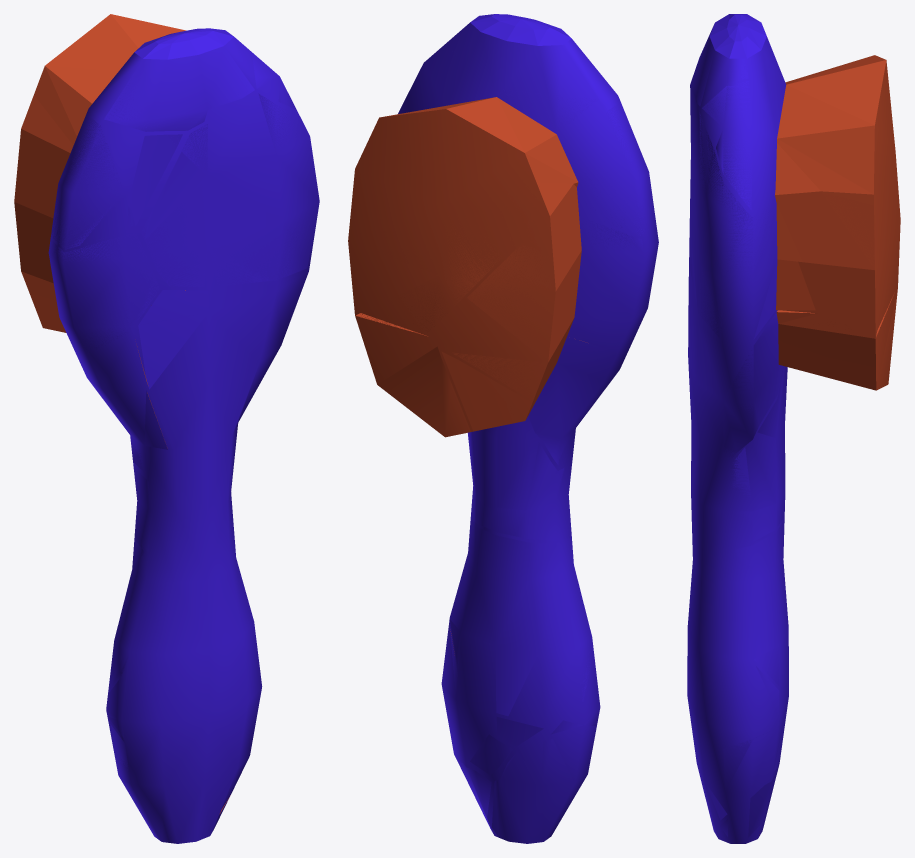
The model's file is P_BrosseACheuveux_Colored_Breakable.fbx.
3 renders of one model, left to right at view 1: azimuth 30°, elevation 25°; view 2: azimuth 150°, elevation 25°; view 3: azimuth 270°, elevation 25°, orthographic.
Parts seen in each view (by area): view 1: P_BrosseACheveux_Colored_Breakable, P_BrosseACheveux_Colored_Breakable_cell.010, P_BrosseACheveux_Colored_Breakable_cell.005, P_BrosseACheveux_Colored_Breakable_cell.001, P_BrosseACheveux_Colored_Breakable_cell.004, P_BrosseACheveux_Colored_Breakable_cell.014, P_BrosseACheveux_Colored_Breakable_cell.007, P_BrosseACheveux_Colored_Breakable_cell.006, P_BrosseACheveux_Colored_Breakable_cell, P_BrosseACheveux_Colored_Breakable_cell.011; view 2: P_BrosseACheveux_Colored_Breakable, P_BrosseACheveux_Colored_Breakable_cell.004, P_BrosseACheveux_Colored_Breakable_cell.013, P_BrosseACheveux_Colored_Breakable_cell.006, P_BrosseACheveux_Colored_Breakable_cell.001, P_BrosseACheveux_Colored_Breakable_cell, P_BrosseACheveux_Colored_Breakable_cell.012, P_BrosseACheveux_Colored_Breakable_cell.014, P_BrosseACheveux_Colored_Breakable_cell.009, P_BrosseACheveux_Colored_Breakable_cell.002, P_BrosseACheveux_Colored_Breakable_cell.003; view 3: P_BrosseACheveux_Colored_Breakable, P_BrosseACheveux_Colored_Breakable_cell.001, P_BrosseACheveux_Colored_Breakable_cell.010, P_BrosseACheveux_Colored_Breakable_cell.007, P_BrosseACheveux_Colored_Breakable_cell.006, P_BrosseACheveux_Colored_Breakable_cell.013, P_BrosseACheveux_Colored_Breakable_cell.011, P_BrosseACheveux_Colored_Breakable_cell.005, P_BrosseACheveux_Colored_Breakable_cell.015, P_BrosseACheveux_Colored_Breakable_cell.002, P_BrosseACheveux_Colored_Breakable_cell.003.
Boxes of the visible parts, x1,y1,x2,y2 form: P_BrosseACheveux_Colored_Breakable: [14, 16, 319, 843]; P_BrosseACheveux_Colored_Breakable_cell.010: [141, 93, 319, 287]; P_BrosseACheveux_Colored_Breakable_cell.005: [104, 30, 254, 131]; P_BrosseACheveux_Colored_Breakable_cell.001: [34, 14, 182, 225]; P_BrosseACheveux_Colored_Breakable_cell.004: [14, 169, 159, 353]; P_BrosseACheveux_Colored_Breakable_cell.014: [18, 99, 133, 249]; P_BrosseACheveux_Colored_Breakable_cell.007: [137, 290, 208, 389]; P_BrosseACheveux_Colored_Breakable_cell.006: [134, 468, 151, 552]; P_BrosseACheveux_Colored_Breakable_cell: [131, 390, 167, 472]; P_BrosseACheveux_Colored_Breakable_cell.011: [252, 52, 296, 109]; P_BrosseACheveux_Colored_Breakable: [348, 14, 658, 841]; P_BrosseACheveux_Colored_Breakable_cell.004: [452, 221, 649, 400]; P_BrosseACheveux_Colored_Breakable_cell.013: [449, 518, 590, 716]; P_BrosseACheveux_Colored_Breakable_cell.006: [355, 313, 571, 540]; P_BrosseACheveux_Colored_Breakable_cell.001: [354, 90, 595, 331]; P_BrosseACheveux_Colored_Breakable_cell: [441, 336, 616, 464]; P_BrosseACheveux_Colored_Breakable_cell.012: [492, 731, 591, 843]; P_BrosseACheveux_Colored_Breakable_cell.014: [524, 102, 649, 252]; P_BrosseACheveux_Colored_Breakable_cell.009: [450, 628, 600, 746]; P_BrosseACheveux_Colored_Breakable_cell.002: [453, 706, 512, 775]; P_BrosseACheveux_Colored_Breakable_cell.003: [458, 762, 491, 821]; P_BrosseACheveux_Colored_Breakable: [687, 14, 900, 843]; P_BrosseACheveux_Colored_Breakable_cell.001: [775, 55, 900, 269]; P_BrosseACheveux_Colored_Breakable_cell.010: [689, 112, 815, 339]; P_BrosseACheveux_Colored_Breakable_cell.007: [722, 310, 858, 464]; P_BrosseACheveux_Colored_Breakable_cell.006: [731, 295, 896, 541]; P_BrosseACheveux_Colored_Breakable_cell.013: [734, 520, 788, 685]; P_BrosseACheveux_Colored_Breakable_cell.011: [702, 81, 752, 210]; P_BrosseACheveux_Colored_Breakable_cell.005: [690, 14, 759, 106]; P_BrosseACheveux_Colored_Breakable_cell.015: [795, 112, 876, 166]; P_BrosseACheveux_Colored_Breakable_cell.002: [705, 722, 785, 820]; P_BrosseACheveux_Colored_Breakable_cell.003: [720, 775, 775, 837].
Bounding box in the file's own units: 17.4 × 52.39 × 12.45.
